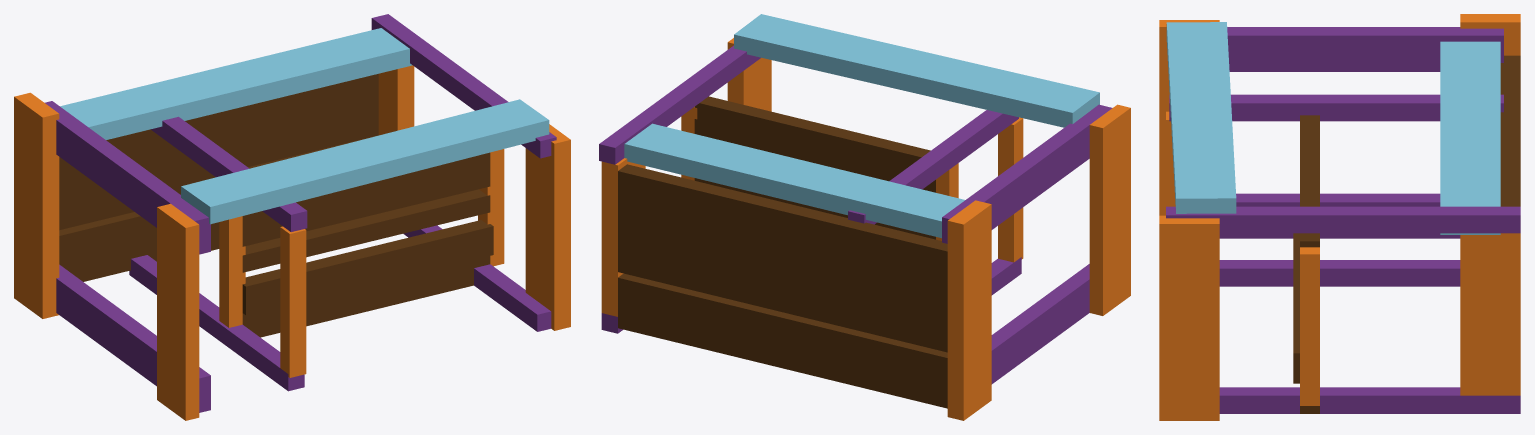
Rendered from tinker.obj.
3 views of the same model, side by side, from view 1: azimuth 30°, elevation 25°; view 2: azimuth 150°, elevation 25°; view 3: azimuth 270°, elevation 25° (orthographic). The views are drawn at different scales.
Visible parts, largest first — view 1: group_0_6306067, group_0_16089887, group_0_8768998, group_0_8273816; view 2: group_0_6306067, group_0_8768998, group_0_16089887, group_0_8273816; view 3: group_0_8273816, group_0_16089887, group_0_8768998, group_0_6306067.
Part boxes in pixels (left/top/right/bottom): group_0_6306067: left=59, top=74, right=493, bottom=337; group_0_16089887: left=14, top=65, right=570, bottom=420; group_0_8768998: left=60, top=28, right=549, bottom=224; group_0_8273816: left=44, top=14, right=556, bottom=412; group_0_6306067: left=618, top=96, right=947, bottom=408; group_0_8768998: left=624, top=14, right=1099, bottom=238; group_0_16089887: left=601, top=38, right=1130, bottom=420; group_0_8273816: left=599, top=45, right=1112, bottom=384; group_0_8273816: left=1166, top=27, right=1520, bottom=413; group_0_16089887: left=1159, top=14, right=1520, bottom=420; group_0_8768998: left=1166, top=22, right=1500, bottom=234; group_0_6306067: left=1293, top=55, right=1520, bottom=413.
Size of the model in its own units: 28 by 14.4 by 21.6.
